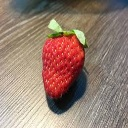strawberry: (41, 26, 86, 100)
